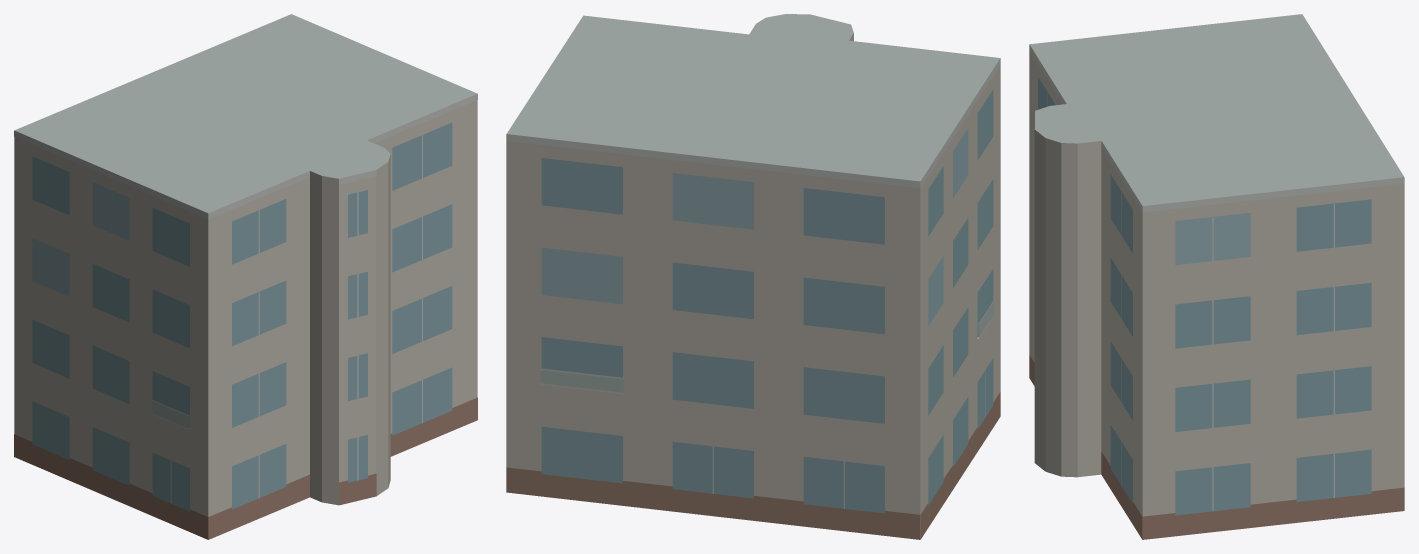
Rendered from survey-upis-32812558.glb.
3 renders of one model, left to right at view 1: azimuth 30°, elevation 25°; view 2: azimuth 150°, elevation 25°; view 3: azimuth 270°, elevation 25°, orthographic. The views are drawn at different scales.
Visible parts, largest first — view 1: survey-upis-32812558.tmp; view 2: survey-upis-32812558.tmp; view 3: survey-upis-32812558.tmp.
Part boxes in pixels (x1,y1,x2,y2): survey-upis-32812558.tmp: [14, 14, 477, 539]; survey-upis-32812558.tmp: [506, 14, 1000, 539]; survey-upis-32812558.tmp: [1029, 14, 1404, 539].
Bounding box in the file's own units: 15.82 × 12.8 × 13.05.
